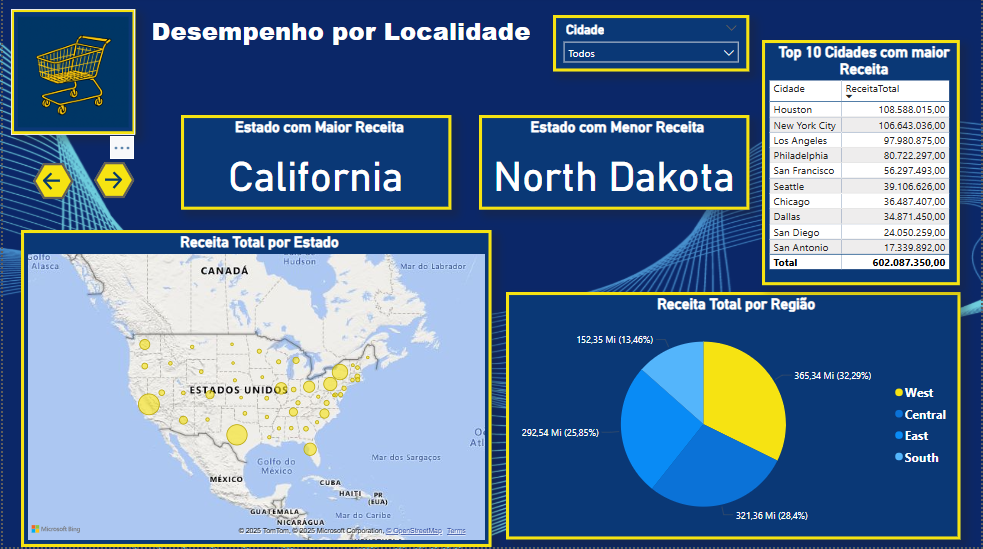

Layout of this report page (visuals, bound fields, positions):
{"tool":"powerbi","page":{"name":"Região","canvas":[1280,720],"ordinal":2},"visuals":[{"type":"map","title":"Receita Total por Estado","fields":{"Category":["LOCALIDADE.Estado","LOCALIDADE.Região"],"Size":["Medidas.ReceitaTotal"]},"box":[23,305.3,616.3,414.7],"z":0},{"type":"pieChart","title":"Receita Total por Região","fields":{"Category":["LOCALIDADE.Região"],"Y":["Medidas.ReceitaTotal"]},"box":[658.1,385.9,594.7,324],"z":1000},{"type":"card","title":"Estado com Maior Receita","fields":{"Values":["Min(LOCALIDADE.Estado)"]},"box":[233.5,154.5,354.4,124.3],"z":2000},{"type":"tableEx","title":"Top 10 Cidades com maior Receita","fields":{"Values":["LOCALIDADE.Cidade","Medidas.ReceitaTotal"]},"box":[993.6,56.2,259.2,321.1],"z":3000},{"type":"textbox","box":[173,15.1,539.2,58.8],"z":4000},{"type":"image","box":[10.1,15.8,162.7,164.2],"z":5000},{"type":"card","title":"Estado com Menor Receita","fields":{"Values":["Min(LOCALIDADE.Estado)"]},"box":[623.2,154.5,354.4,124.3],"z":6000},{"type":"slicer","fields":{"Values":["LOCALIDADE.Cidade"]},"box":[720.6,23.5,257,73.9],"z":7000},{"type":"actionButton","box":[119.5,216,53.3,47.5],"z":8000},{"type":"actionButton","box":[38.9,217.4,53.3,47.5],"z":9000}]}

Visuals, with their boxes in screenshot pixels (x1, y1, x2, y2), scaled from the page's 1280x720 canvas onto the 983x549 screenshot:
"Receita Total por Estado" map: left=18, top=233, right=491, bottom=548
"Receita Total por Região" pieChart: left=505, top=294, right=962, bottom=541
"Estado com Maior Receita" card: left=179, top=118, right=451, bottom=213
"Top 10 Cidades com maior Receita" tableEx: left=763, top=43, right=962, bottom=288
textbox: left=133, top=12, right=547, bottom=56
image: left=8, top=12, right=133, bottom=137
"Estado com Menor Receita" card: left=479, top=118, right=751, bottom=213
slicer - LOCALIDADE.Cidade: left=553, top=18, right=751, bottom=74
actionButton: left=92, top=165, right=133, bottom=201
actionButton: left=30, top=166, right=71, bottom=202
